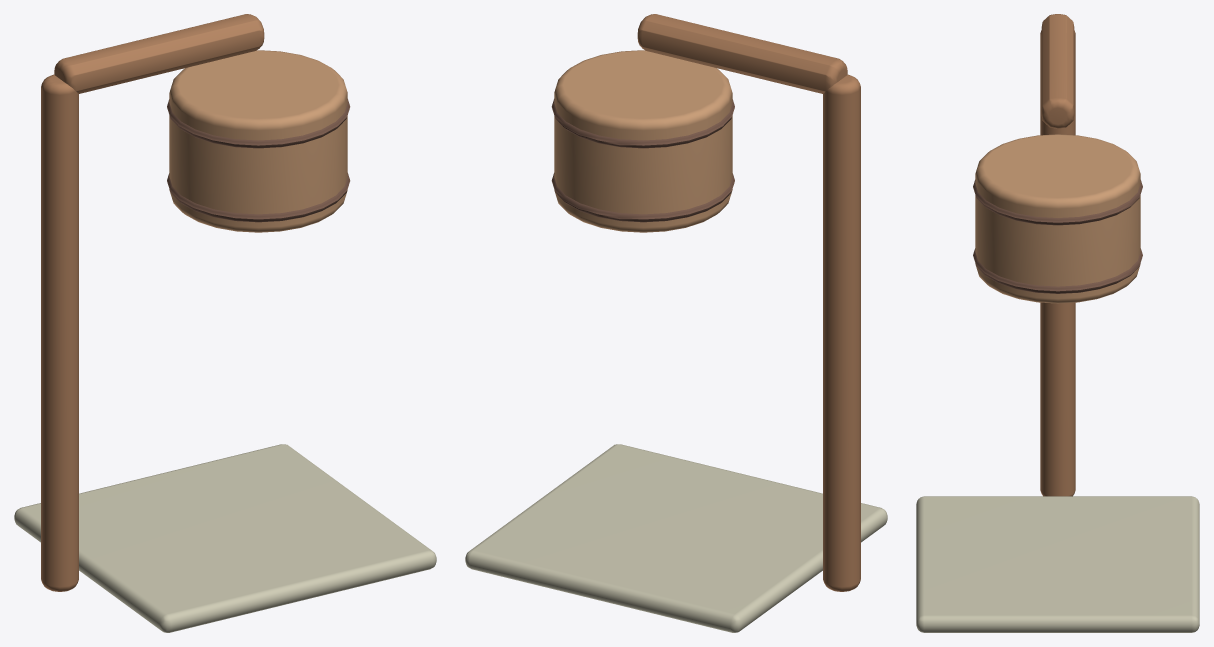
The model's file is ice_bucket.glb.
3 views of the same model, side by side, from view 1: azimuth 30°, elevation 25°; view 2: azimuth 150°, elevation 25°; view 3: azimuth 270°, elevation 25° (orthographic). The views are drawn at different scales.
Parts seen in each view (by area): view 1: Body_stone, Body_wood, Body_cedar, Body_darkwood; view 2: Body_stone, Body_wood, Body_cedar, Body_darkwood; view 3: Body_stone, Body_cedar, Body_wood, Body_darkwood.
Part boxes in pixels (x1,y1,x2,y2): Body_stone: (14,444,436,632); Body_wood: (41,14,264,591); Body_cedar: (169,50,347,232); Body_darkwood: (167,99,350,222); Body_stone: (465,444,887,632); Body_wood: (637,14,860,591); Body_cedar: (554,50,732,232); Body_darkwood: (551,99,734,222); Body_stone: (916,496,1199,632); Body_cedar: (975,134,1140,303); Body_wood: (1040,14,1075,496); Body_darkwood: (973,180,1142,293).
Bounding box in the file's own units: 1.45 × 2.27 × 1.2.
